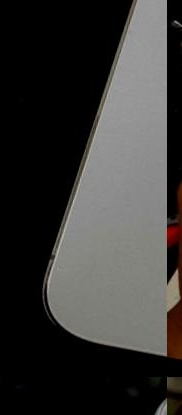scratch: (128, 406, 166, 415)
